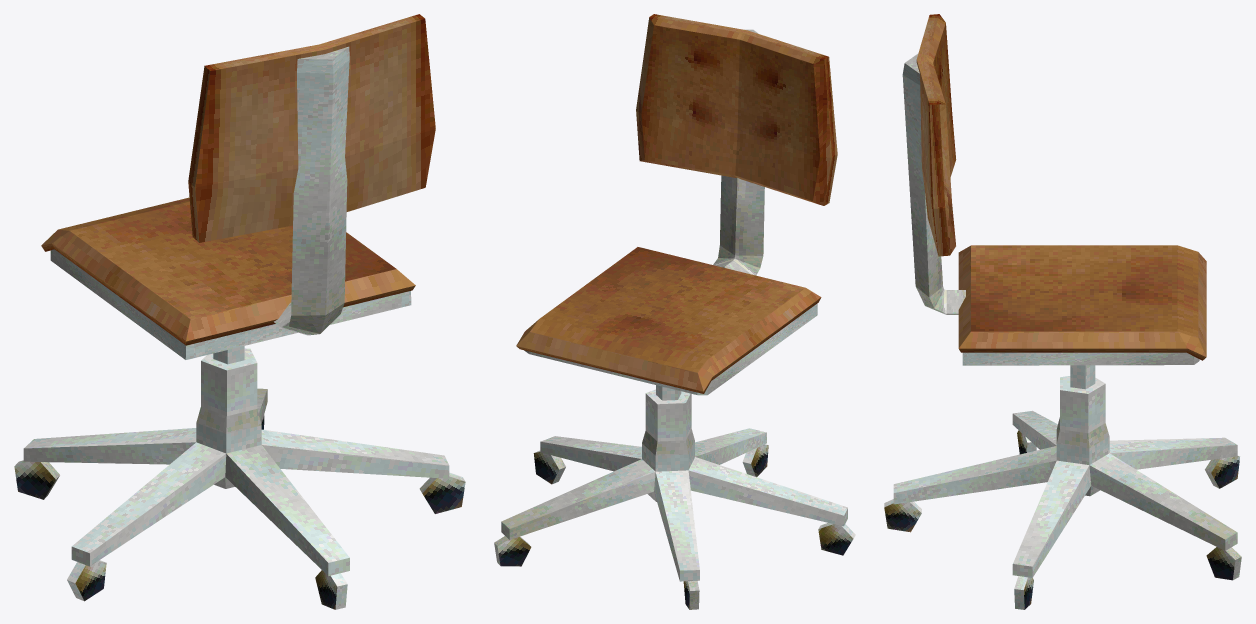
File: office_chair_alt.glb
The picture shows the model from 3 angles, left to right: view 1: azimuth 30°, elevation 25°; view 2: azimuth 150°, elevation 25°; view 3: azimuth 270°, elevation 25°; orthographic projection. The views are drawn at different scales.
Visible parts, largest first — view 1: office_chair_alt; view 2: office_chair_alt; view 3: office_chair_alt.
Boxes of the visible parts, x1=… form: office_chair_alt: x1=14, y1=14, x2=465, y2=609; office_chair_alt: x1=494, y1=14, x2=855, y2=609; office_chair_alt: x1=884, y1=14, x2=1241, y2=609.
Size of the model in its own units: 0.8196 by 1.1 by 0.7513.
Materials: 1 (1 with a texture image).
